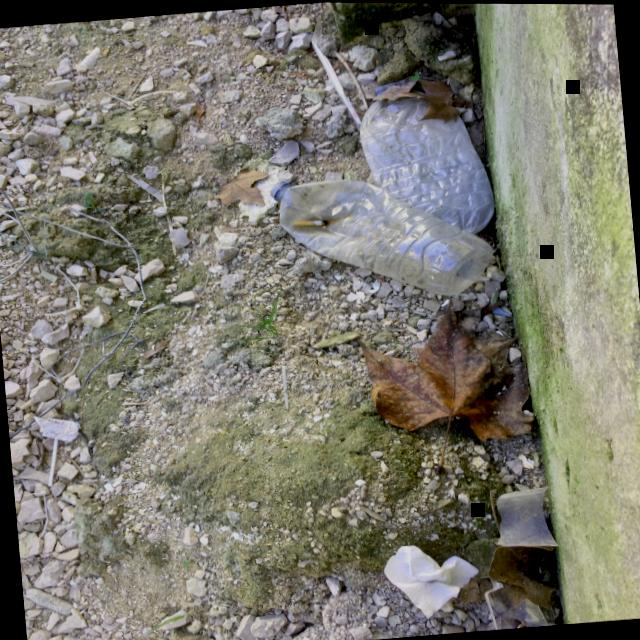Cigarette: (294, 218, 326, 224)
Clear plastic bottle: (269, 177, 492, 294), (359, 80, 494, 232)
Other plastic bottle: (480, 574, 549, 629), (497, 484, 558, 544), (31, 346, 84, 382), (44, 266, 83, 314), (102, 89, 178, 104), (26, 499, 48, 547), (47, 437, 58, 485), (24, 489, 46, 505)
Plastic straw: (312, 38, 360, 128)
Tissues: (384, 543, 478, 617)
Unlabeled litter: (33, 415, 80, 440)
